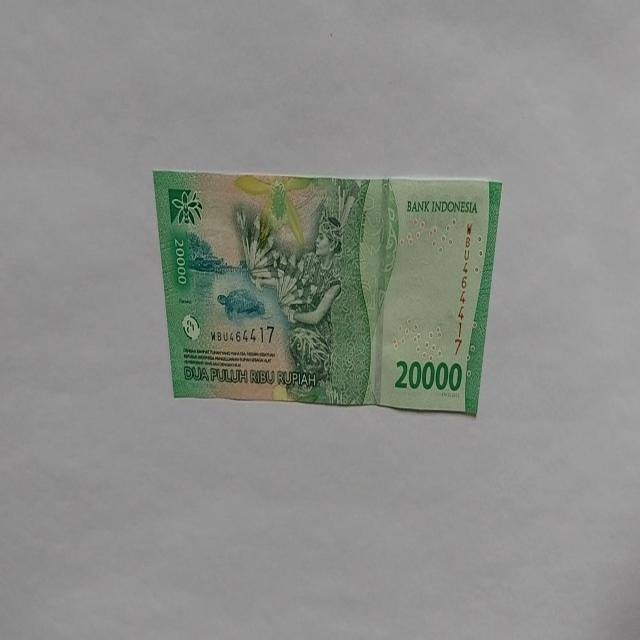dua puluh ribu rupiah: (152, 168, 502, 416)
